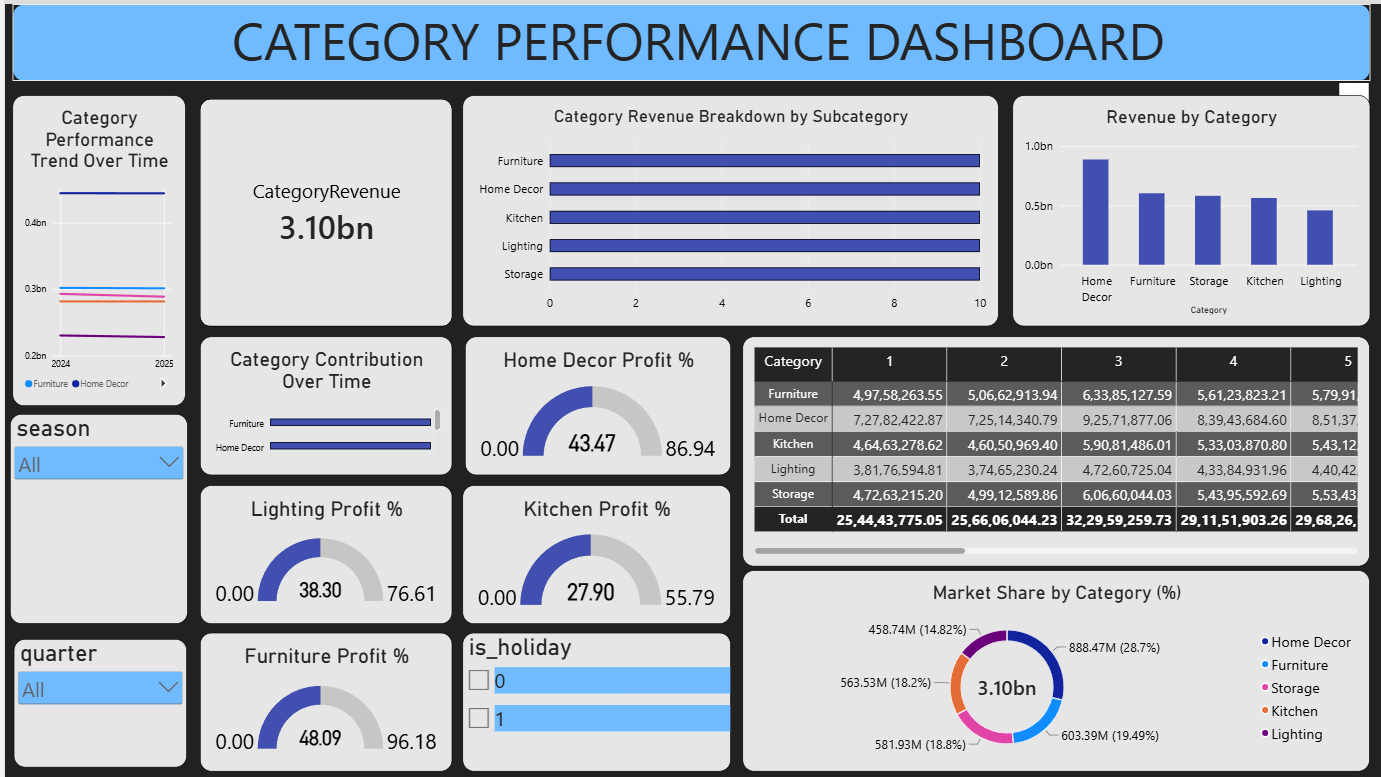

The page's visual inventory and layout, read from the dashboard file:
{"tool":"powerbi","page":{"name":"Page 4","canvas":[1920,1080],"ordinal":3},"visuals":[{"type":"textbox","box":[10.5,0,1894.2,108.1],"z":0},{"type":"cardVisual","fields":{"Data":["_Measures.CategoryRevenue"]},"box":[272.1,132.6,352.3,317.4],"z":1},{"type":"clusteredColumnChart","title":"Revenue by Category","fields":{"Category":["sku_master (2).Category"],"Y":["_Measures.Total Revenue"]},"box":[1406.1,127.8,498.8,322.7],"z":2},{"type":"donutChart","title":"Market Share by Category (%)","fields":{"Category":["sku_master (2).Category"],"Y":["_Measures.Total Revenue"]},"box":[1028.9,790.4,875.6,280.8],"z":3},{"type":"barChart","title":"Category Revenue Breakdown by Subcategory","fields":{"Category":["sku_master (2).Category"],"Y":["CountNonNull(sku_master (2).Subcategory)"]},"box":[639.1,127.8,748.3,322.7],"z":4},{"type":"pivotTable","fields":{"Columns":["calendar (2).month"],"Rows":["sku_master (2).Category"],"Values":["_Measures.Total Revenue"]},"box":[1029.1,464,875.6,320.9],"z":5},{"type":"lineChart","title":"Category Performance Trend Over Time","fields":{"Category":["calendar (2).date.Variation.Date Hierarchy.Year","calendar (2).date.Variation.Date Hierarchy.Quarter","calendar (2).date.Variation.Date Hierarchy.Month","calendar (2).date.Variation.Date Hierarchy.Day"],"Series":["sku_master (2).Category"],"Y":["_Measures.Total Revenue"]},"box":[10.9,127.8,241.6,433.4],"z":6},{"type":"hundredPercentStackedBarChart","title":"Category Contribution Over Time","fields":{"Category":["sku_master (2).Category"],"Y":["Sum(calendar (2).month)"]},"box":[272.1,464,352.3,193.6],"z":8},{"type":"gauge","fields":{"Y":["_Measures.Furniture Profit %"]},"box":[272.8,877.7,352.3,193.6],"z":9},{"type":"gauge","fields":{"Y":["_Measures.Home Decor Profit %"]},"box":[641.9,464,371.5,193.6],"z":13},{"type":"gauge","fields":{"Y":["_Measures.Kitchen Profit %"]},"box":[639.1,671.9,374.1,193.3],"z":14},{"type":"gauge","fields":{"Y":["_Measures.Lighting Profit %"]},"box":[272.8,671.9,352.3,193.3],"z":15},{"type":"slicer","fields":{"Values":["calendar (2).quarter"]},"box":[12.5,885.5,241.6,179.3],"z":16},{"type":"slicer","fields":{"Values":["calendar (2).season"]},"box":[6.2,572.1,247.9,293.1],"z":17},{"type":"slicer","fields":{"Values":["calendar (2).is_holiday"]},"box":[639.1,877.7,374.1,193.3],"z":18}]}

Visuals, with their boxes in screenshot pixels (x1, y1, x2, y2), scaled from the page's 1920x1080 canvas onto the 1381x777 screenshot:
textbox: box(8, 0, 1370, 78)
cardVisual - _Measures.CategoryRevenue: box(196, 95, 449, 324)
"Revenue by Category" clusteredColumnChart: box(1011, 92, 1370, 324)
"Market Share by Category (%)" donutChart: box(740, 569, 1370, 771)
"Category Revenue Breakdown by Subcategory" barChart: box(460, 92, 998, 324)
pivotTable - calendar (2).month x sku_master (2).Category: box(740, 334, 1370, 565)
"Category Performance Trend Over Time" lineChart: box(8, 92, 182, 404)
"Category Contribution Over Time" hundredPercentStackedBarChart: box(196, 334, 449, 473)
gauge - _Measures.Furniture Profit %: box(196, 631, 450, 771)
gauge - _Measures.Home Decor Profit %: box(462, 334, 729, 473)
gauge - _Measures.Kitchen Profit %: box(460, 483, 729, 622)
gauge - _Measures.Lighting Profit %: box(196, 483, 450, 622)
slicer - calendar (2).quarter: box(9, 637, 183, 766)
slicer - calendar (2).season: box(4, 412, 183, 622)
slicer - calendar (2).is_holiday: box(460, 631, 729, 771)
